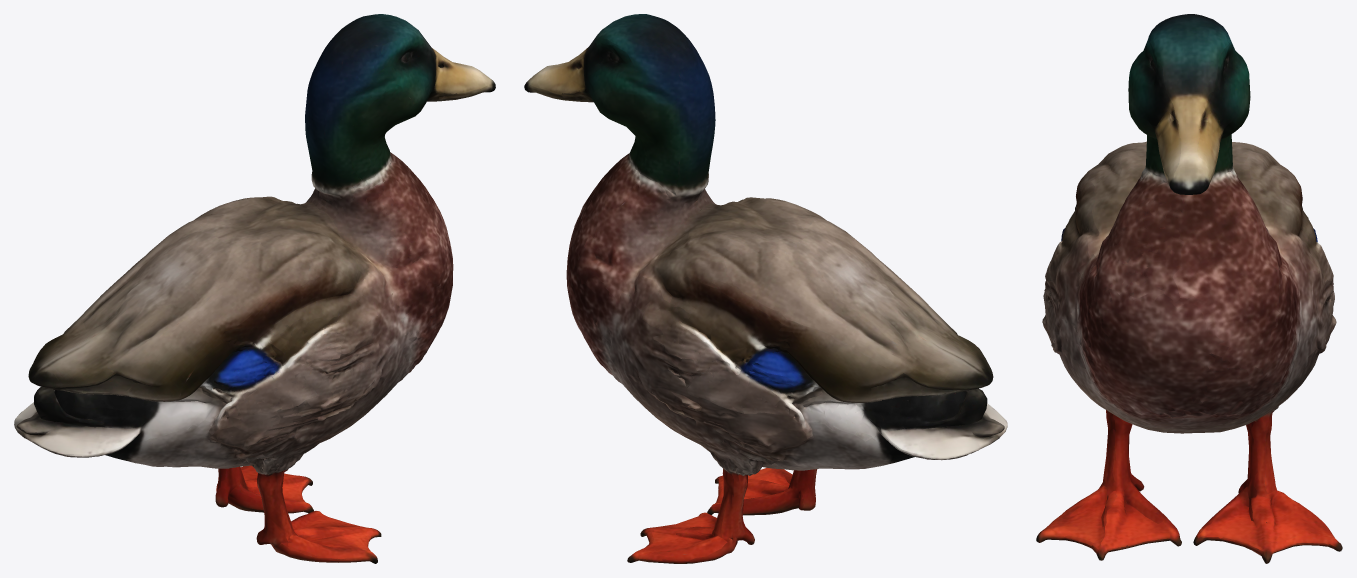
The model's file is mallard-duck-v21.glb.
3 renders of one model, left to right at view 1: azimuth 30°, elevation 25°; view 2: azimuth 150°, elevation 25°; view 3: azimuth 270°, elevation 25°, orthographic. The views are drawn at different scales.
Parts seen in each view (by area): view 1: geometry_0; view 2: geometry_0; view 3: geometry_0.
Part boxes in pixels (x1=…): geometry_0: x1=14, y1=14, x2=495, y2=563; geometry_0: x1=524, y1=14, x2=1007, y2=563; geometry_0: x1=1036, y1=14, x2=1342, y2=563.
Size of the model in its own units: 0.5699 by 0.5541 by 0.2749.
Materials: 1 (1 with a texture image).
